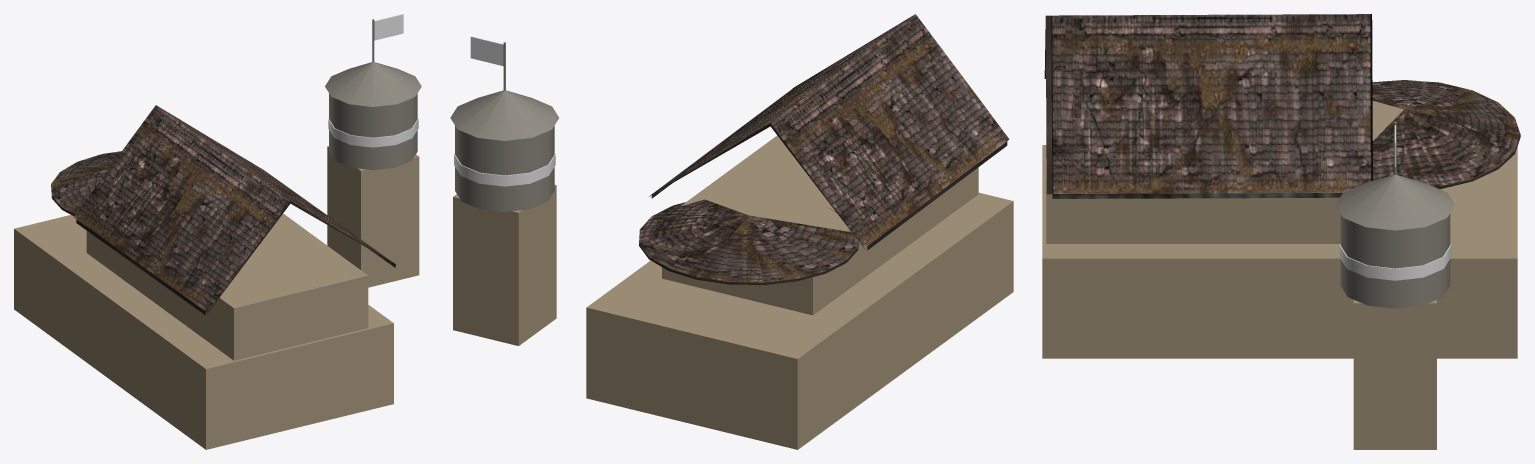
3 renders of one model, left to right at view 1: azimuth 30°, elevation 25°; view 2: azimuth 150°, elevation 25°; view 3: azimuth 270°, elevation 25°, orthographic. The views are drawn at different scales.
Visible parts, largest first — view 1: dweller_building_hq; view 2: dweller_building_hq; view 3: dweller_building_hq.
Part boxes in pixels (x1,y1,x2,y2): dweller_building_hq: (14, 14, 421, 449); dweller_building_hq: (450, 14, 1013, 449); dweller_building_hq: (1042, 14, 1520, 449).
Size of the model in its own units: 19.27 by 13.1 by 18.32.
Materials: 4 (1 with a texture image).
